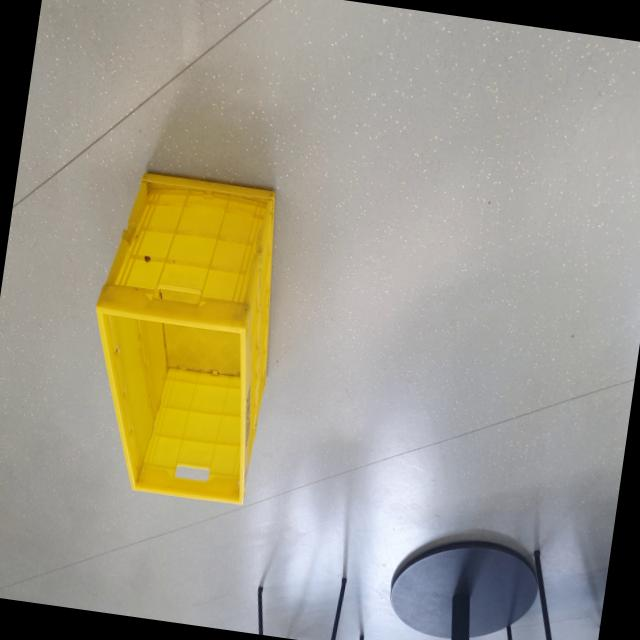box: (65, 150, 302, 521)
